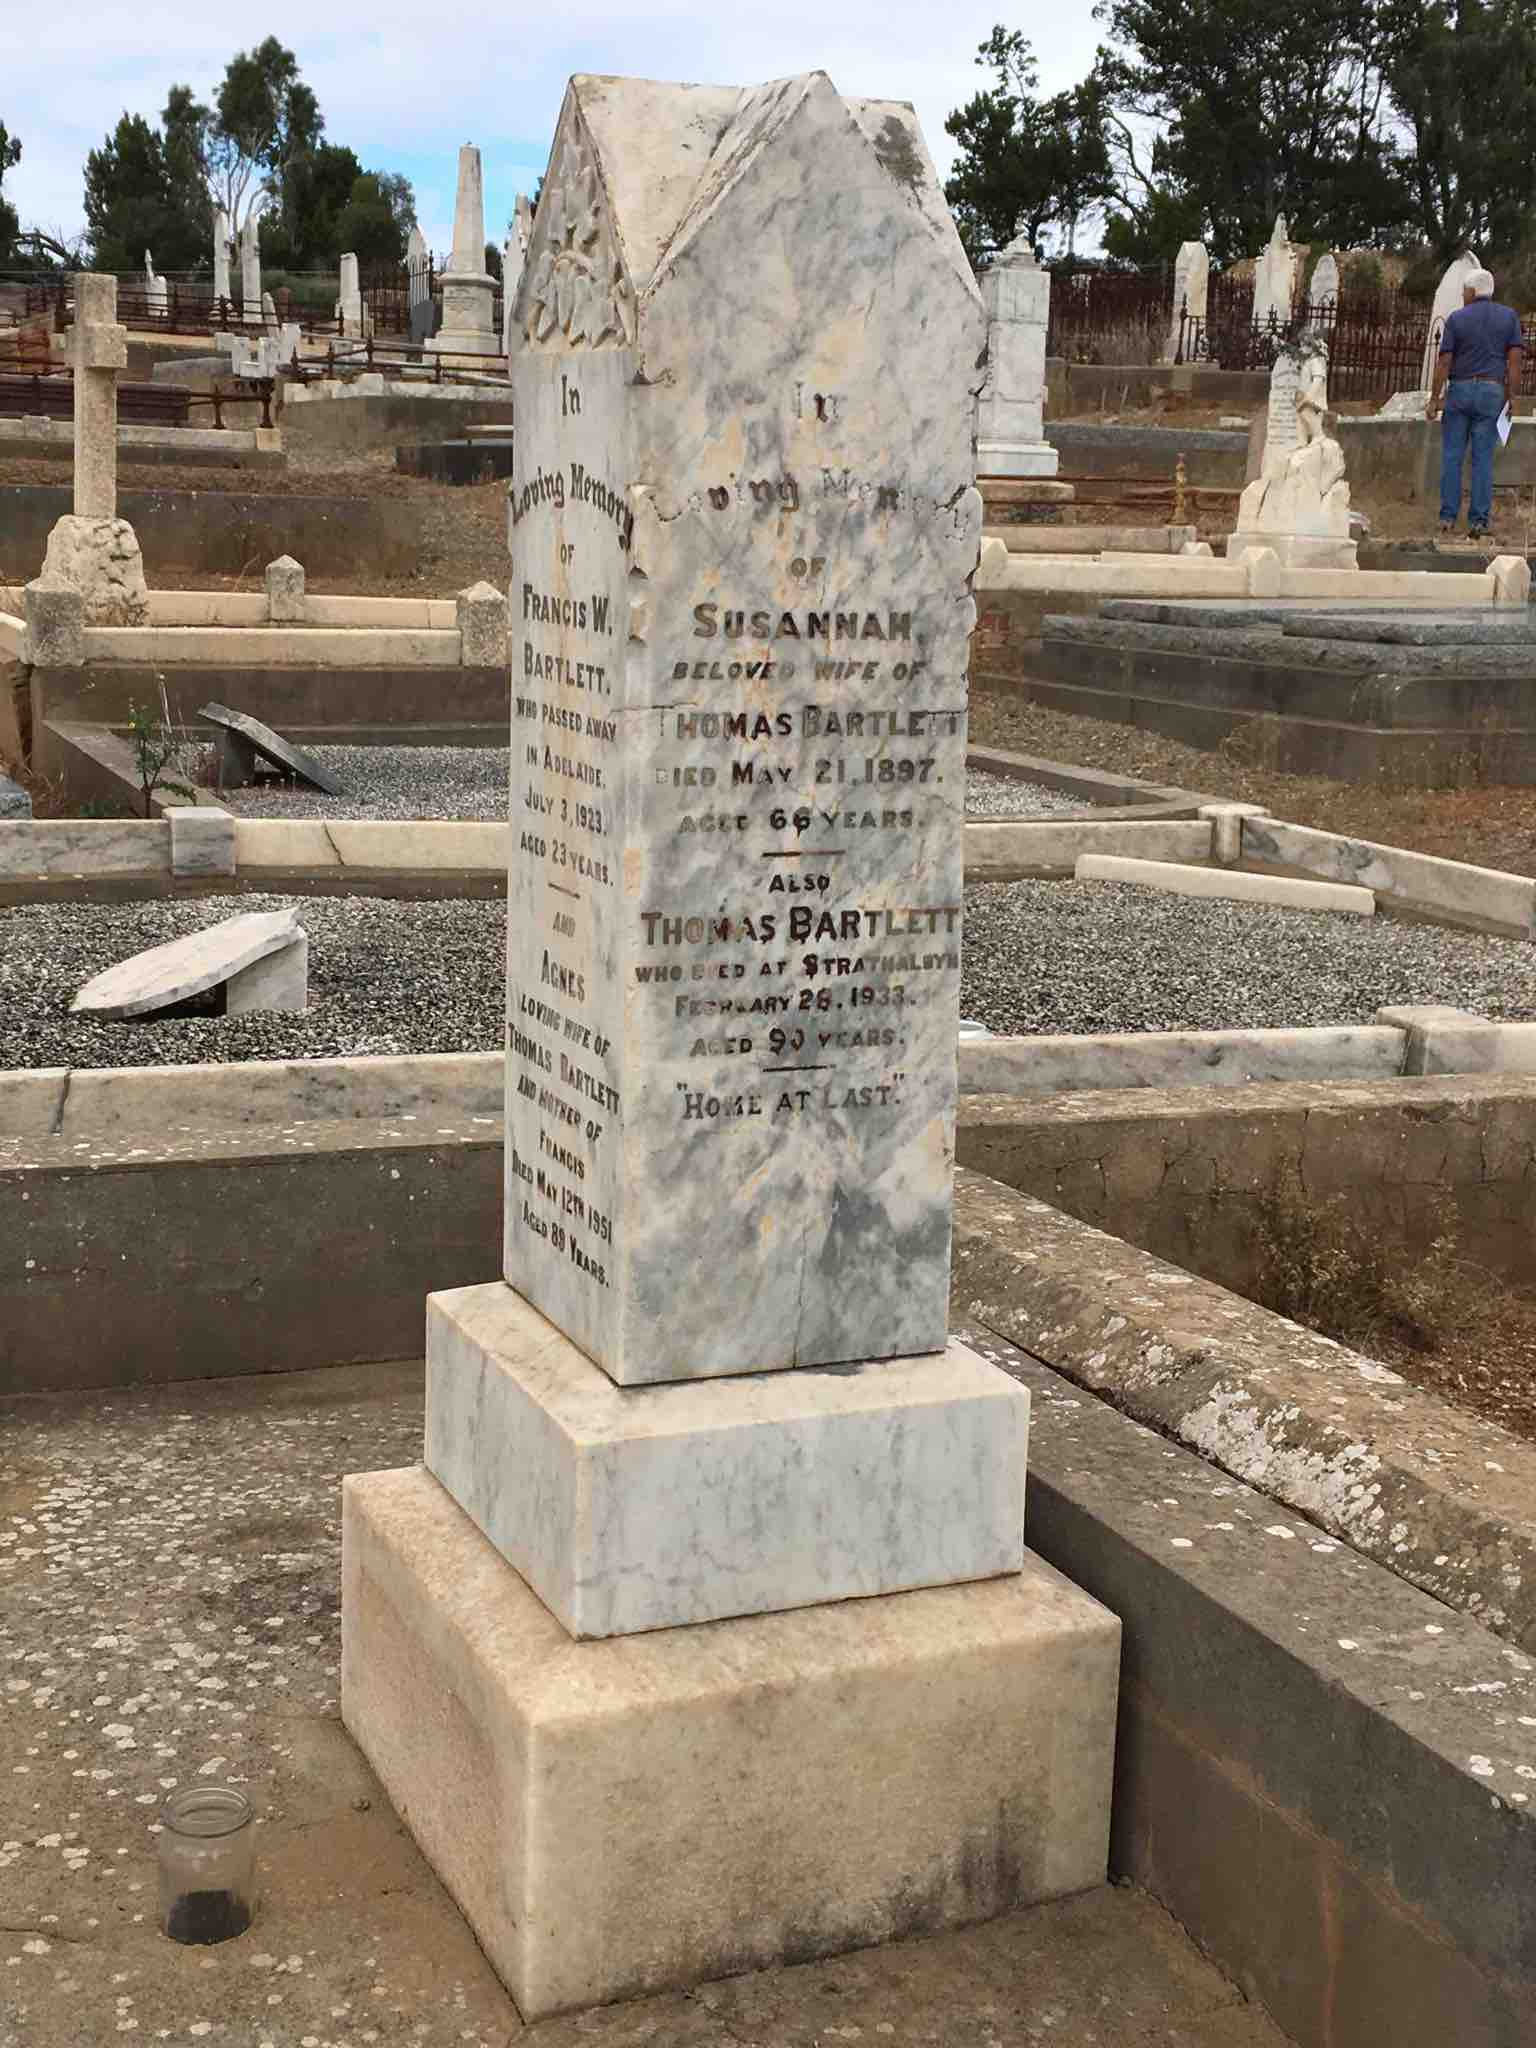obelisk: (357, 34, 1112, 1992)
